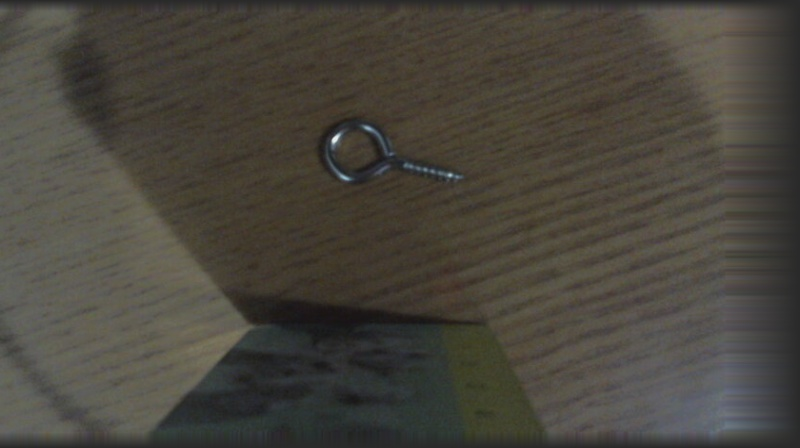O001: (317, 114, 471, 193)
